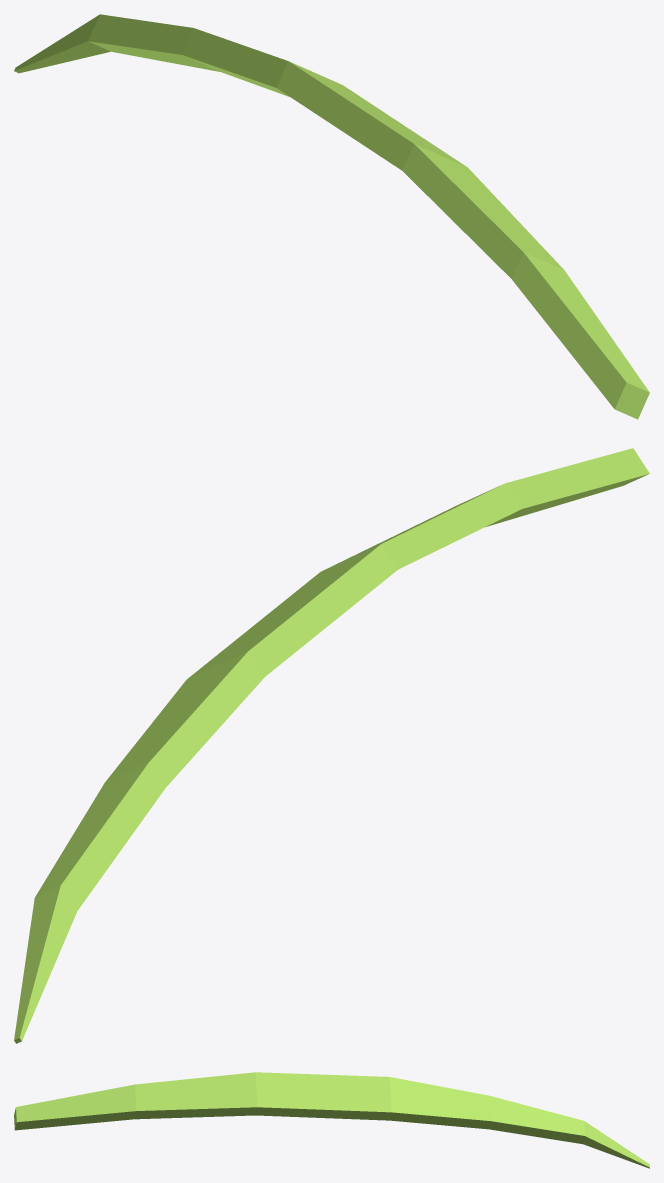
The model's file is TurboGrassBladev21_90degree.fbx.
3 renders of one model, top to bottom at view 1: azimuth 30°, elevation 25°; view 2: azimuth 150°, elevation 25°; view 3: azimuth 270°, elevation 25°, orthographic. The views are drawn at different scales.
Visible parts, largest first — view 1: Plane.001; view 2: Plane.001; view 3: Plane.001.
Boxes of the visible parts, box(x1,y1,x2,y2) form: Plane.001: box(14, 14, 649, 419); Plane.001: box(14, 448, 649, 1043); Plane.001: box(14, 1072, 649, 1168).
Size of the model in its own units: 3431 by 289 by 614.
